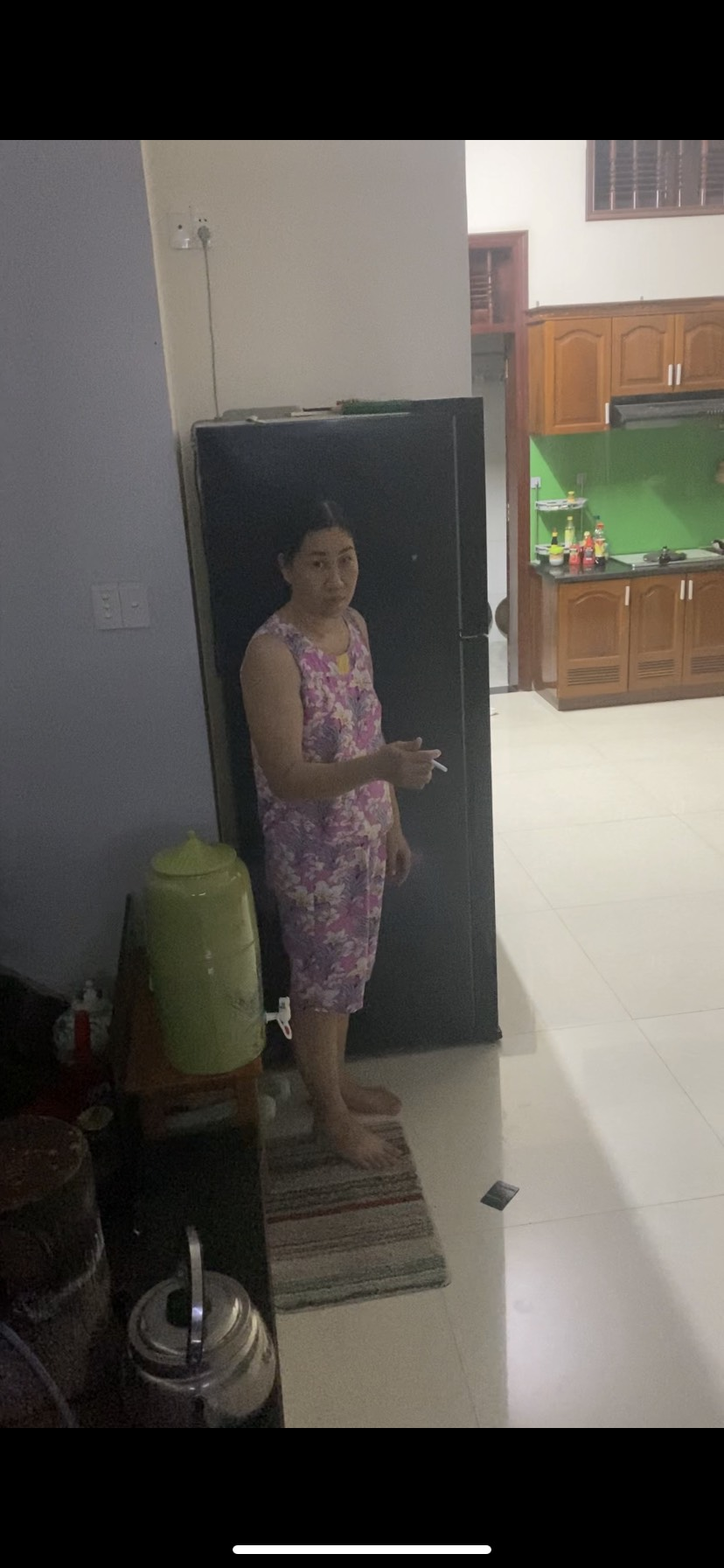cigarette: (430, 760, 450, 775)
person: (239, 482, 442, 1186)
